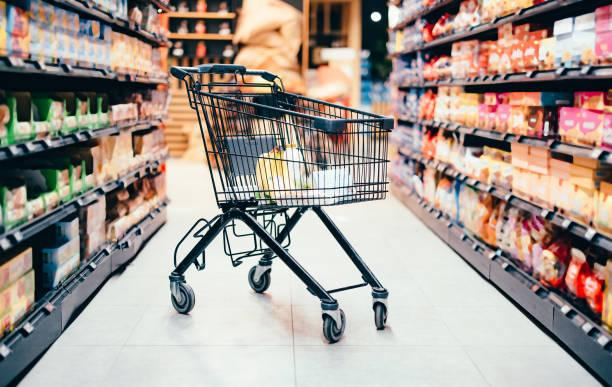Cart: (169, 65, 392, 342)
article: (0, 247, 31, 288), (569, 109, 602, 145), (565, 249, 589, 297), (524, 40, 538, 69)
